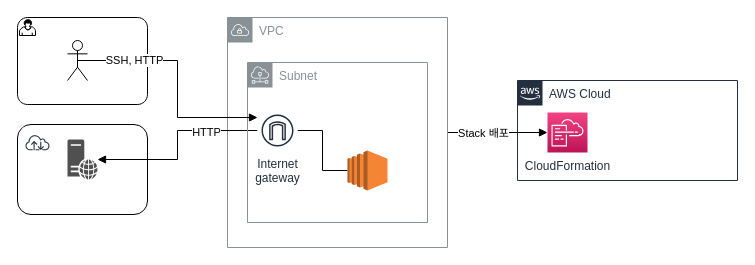
Image size: 755x265. Some labels were removed from this diagram. Here are the shapes that lost their labels. From the top down, the box of each, then its label:
(67, 139, 97, 179): 외부 인터넷 웹서버
(346, 150, 388, 190): EC2
